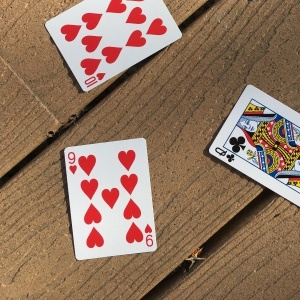card: (61, 138, 159, 260)
